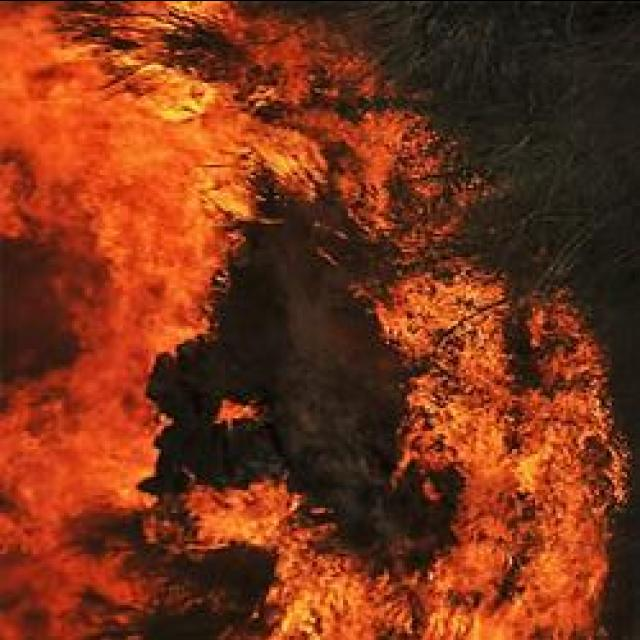fire: (425, 391, 612, 640), (77, 88, 225, 344), (386, 296, 506, 474), (0, 418, 149, 515), (180, 478, 302, 553), (261, 568, 383, 640)
